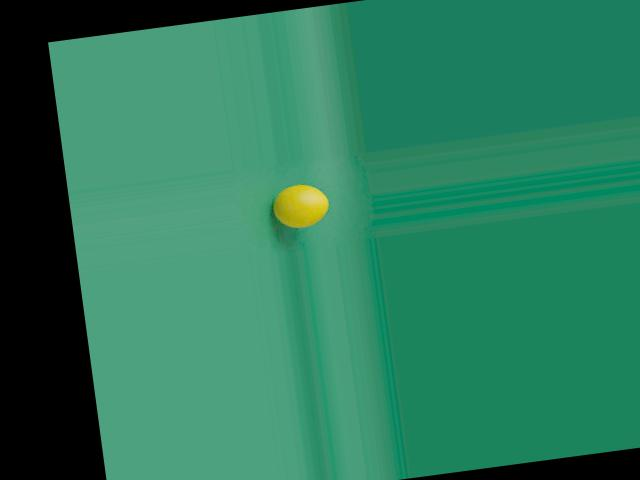egg: (270, 180, 331, 229)
